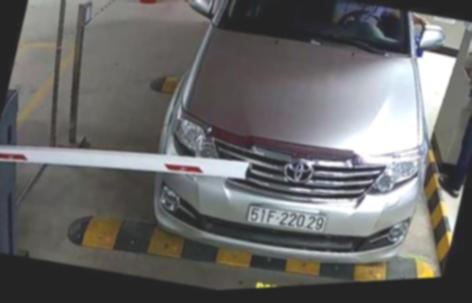License_Plate: (247, 195, 337, 246)
